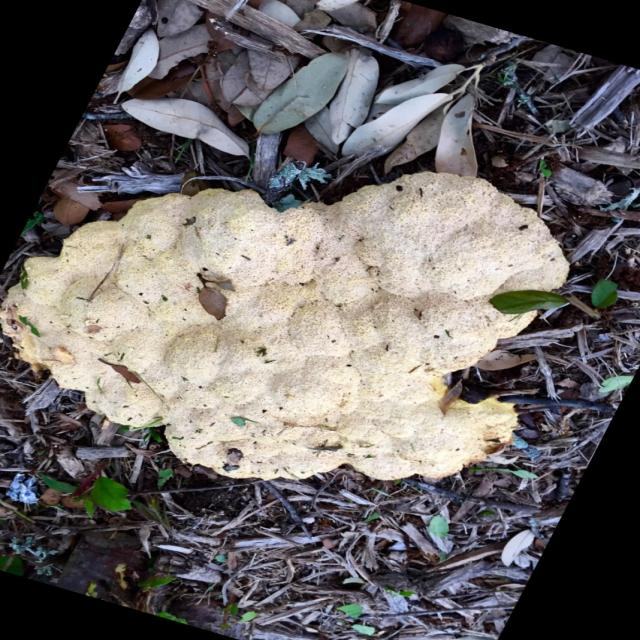Dog_vomit_slime_mold: (0, 194, 607, 480)
